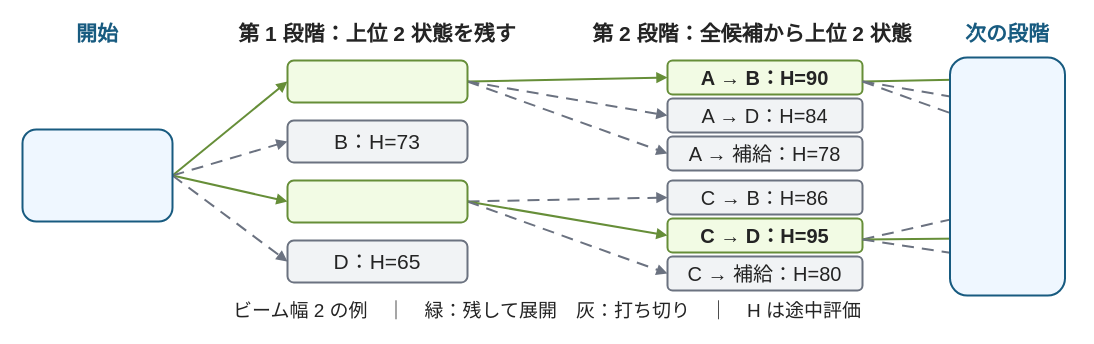
The diagram is 1094 pixels wide and 344 high, and some of its shapes have lost their labels. The shapes that lost their labels are listed below. From the top down, each one's box as (x1, y1, x2, y2) in pixels, then its label:
(286, 59, 468, 103): A：H=88
(21, 128, 173, 222): 現在の 時刻・燃料 訪問集合
(948, 56, 1066, 296): 再び 枝分かれ
(286, 179, 468, 223): C：H=92
